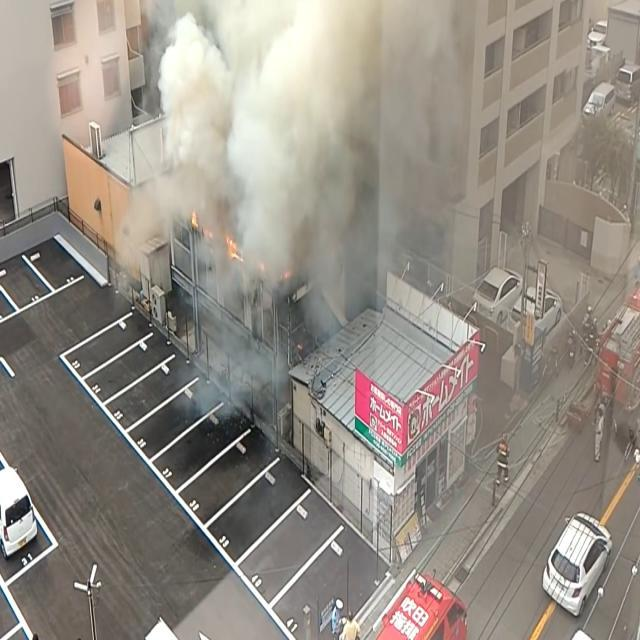Smoke: (115, 0, 475, 330)
